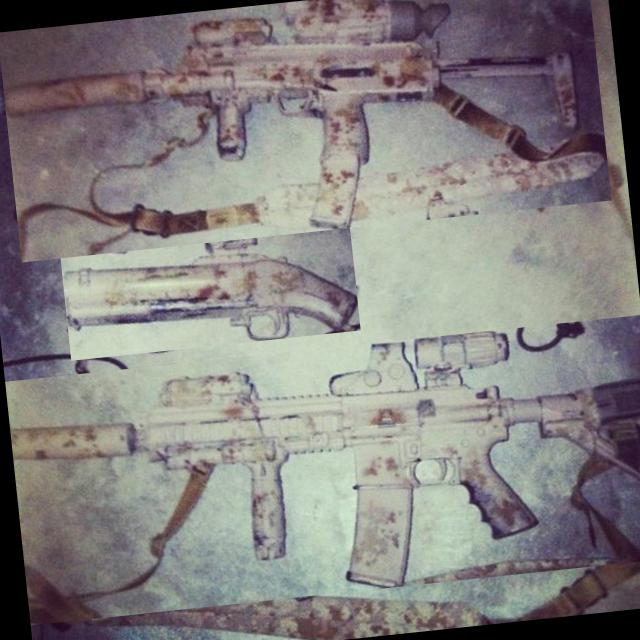Gun: (10, 331, 640, 587), (5, 0, 606, 228), (65, 215, 358, 340)
